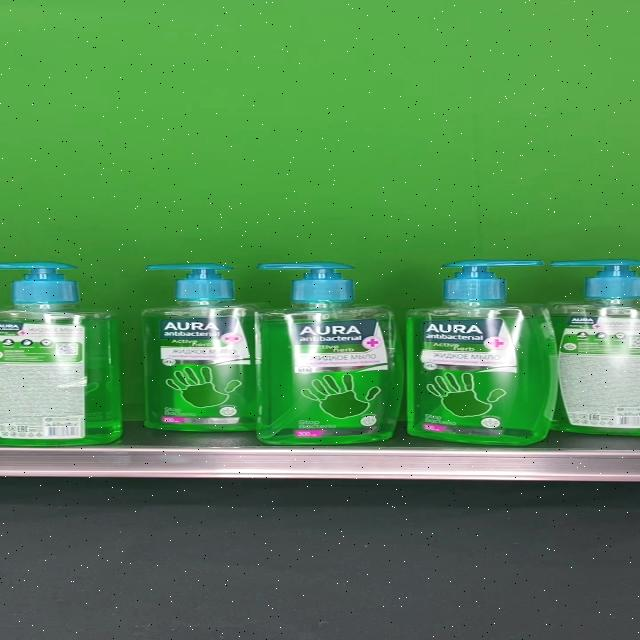Bottle: (408, 258, 558, 446), (255, 262, 404, 446), (0, 261, 123, 445), (143, 264, 273, 430), (549, 258, 640, 436)
Cap: (440, 258, 543, 302), (255, 262, 353, 300), (551, 259, 640, 299), (0, 261, 80, 303), (146, 264, 235, 300)
